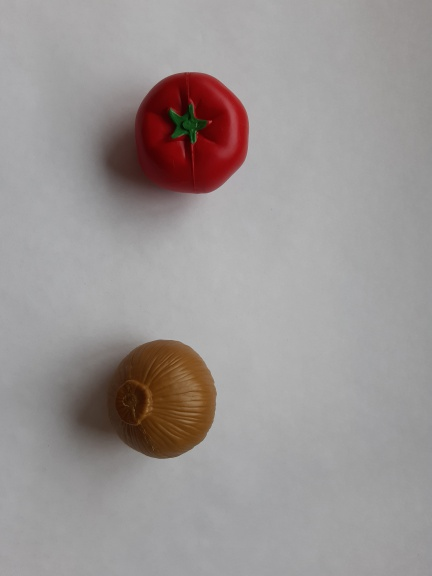onion: (102, 332, 226, 464)
tomato: (128, 67, 252, 199)
